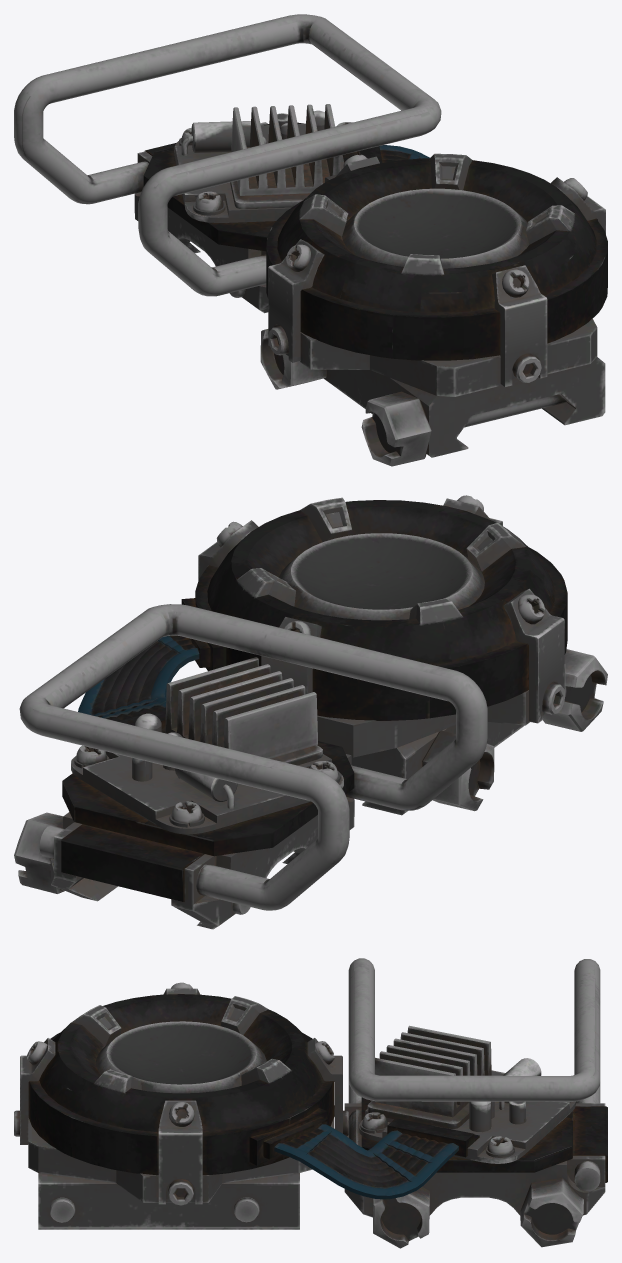
The model's file is Sight_20.glb.
The picture shows the model from 3 angles, top to bottom: view 1: azimuth 30°, elevation 25°; view 2: azimuth 150°, elevation 25°; view 3: azimuth 270°, elevation 25°; orthographic projection. The views are drawn at different scales.
Parts seen in each view (by area): view 1: Sight_20; view 2: Sight_20; view 3: Sight_20.
Part boxes in pixels (box(x1,y1,x2,y2)): Sight_20: box(14, 14, 607, 466); Sight_20: box(14, 495, 607, 929); Sight_20: box(14, 958, 607, 1248).
Bounding box in the file's own units: 0.0644 × 0.0312 × 0.101.
Materials: 1 (1 with a texture image).
